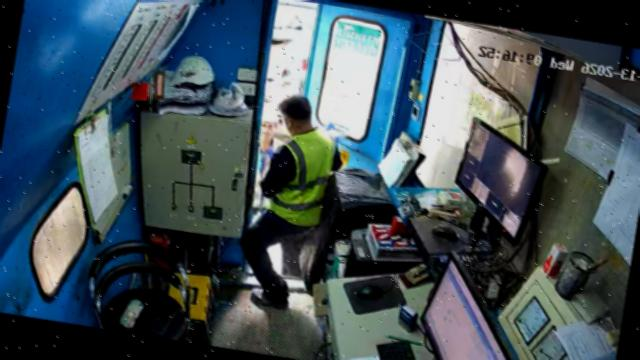Head: (278, 96, 313, 135), (260, 120, 278, 142)
People: (240, 96, 342, 309)
Phone: (144, 303, 179, 337), (131, 303, 159, 332)
